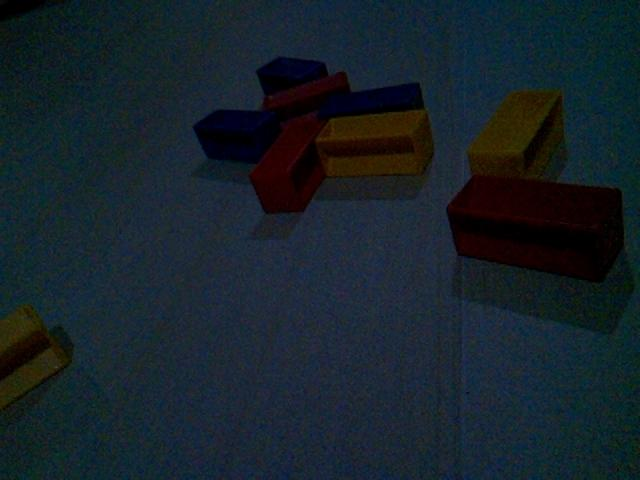blue: (192, 106, 280, 164), (318, 80, 426, 120), (255, 54, 329, 96)
red: (445, 171, 626, 284), (248, 113, 328, 215), (261, 69, 351, 117)
yellow: (466, 86, 567, 180), (315, 107, 436, 179), (1, 302, 75, 412)
